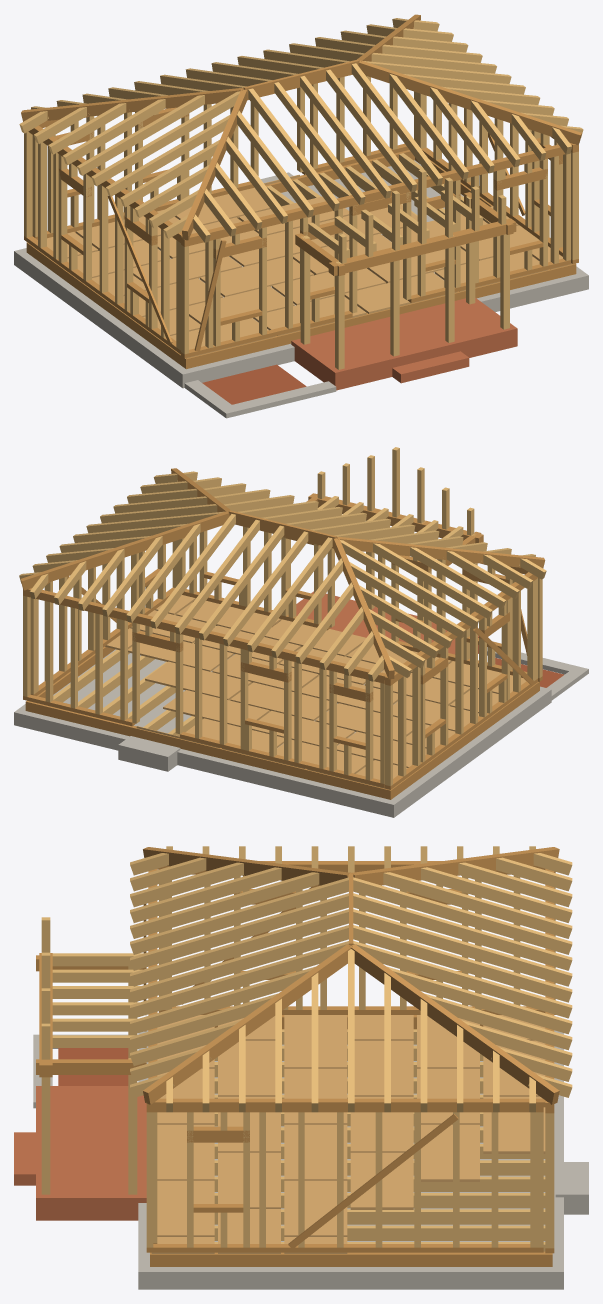
The model's file is base-09-framing.glb.
The picture shows the model from 3 angles, top to bottom: view 1: azimuth 30°, elevation 25°; view 2: azimuth 150°, elevation 25°; view 3: azimuth 270°, elevation 25°; orthographic projection. The views are drawn at different scales.
Parts seen in each view (by area): view 1: base_house_9_framing; view 2: base_house_9_framing; view 3: base_house_9_framing.
Boxes of the visible parts, box(x1,y1,x2,y2) form: base_house_9_framing: box(14, 14, 588, 418); base_house_9_framing: box(14, 447, 588, 817); base_house_9_framing: box(14, 846, 588, 1289).
Size of the model in its own units: 11 by 5.11 by 10.4.
